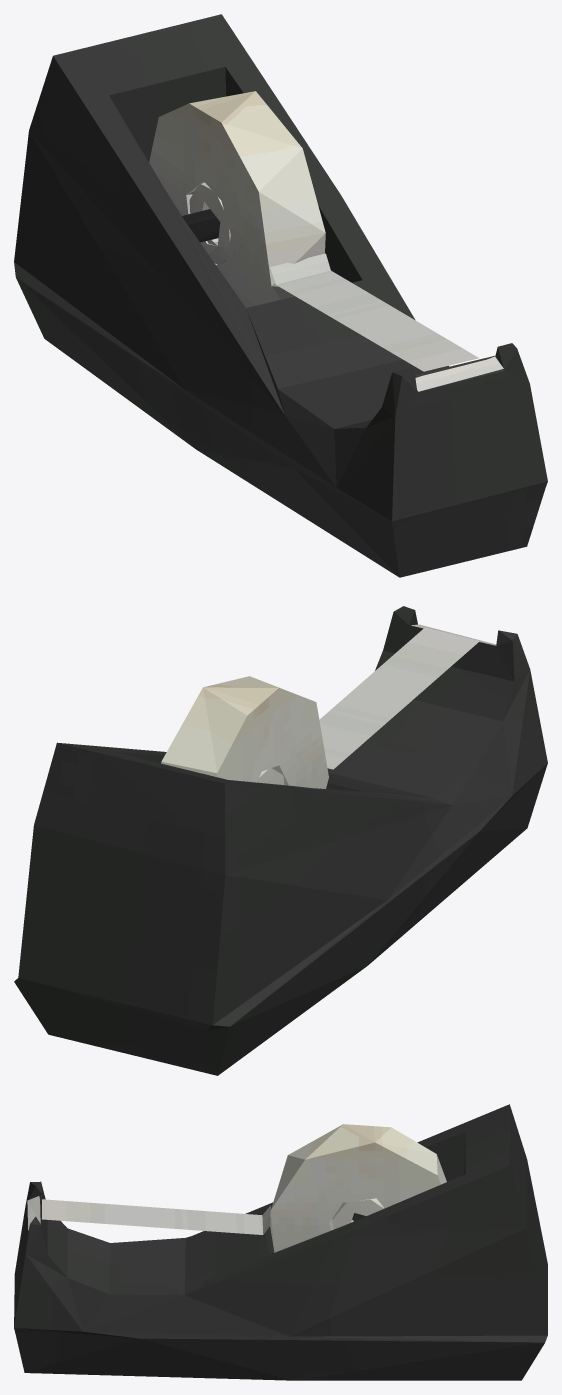
The model's file is item_tapedispenser.glb.
The picture shows the model from 3 angles, top to bottom: view 1: azimuth 30°, elevation 25°; view 2: azimuth 150°, elevation 25°; view 3: azimuth 270°, elevation 25°; orthographic projection. The views are drawn at different scales.
Visible parts, largest first — view 1: Office_TapeDispenser; view 2: Office_TapeDispenser; view 3: Office_TapeDispenser.
Boxes of the visible parts, bbox=[...] form: Office_TapeDispenser: bbox=[14, 14, 547, 577]; Office_TapeDispenser: bbox=[14, 606, 547, 1075]; Office_TapeDispenser: bbox=[14, 1104, 547, 1380].
Bounding box in the file's own units: 0.1071 × 0.1431 × 0.3168.
1 material, 1 textured.
